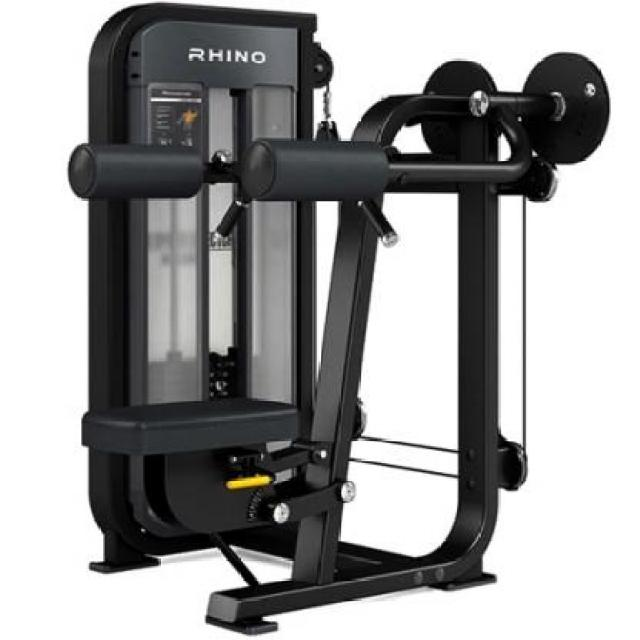lateral raises machine: (71, 5, 611, 637)
